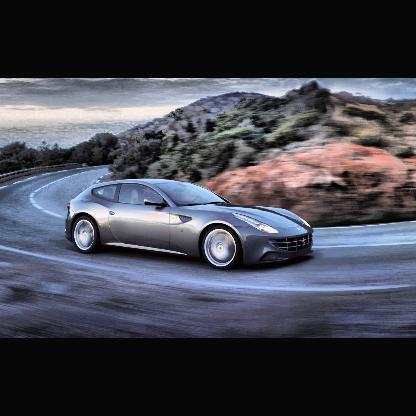Ferrari FF Coupe 2012: (62, 176, 317, 273)
